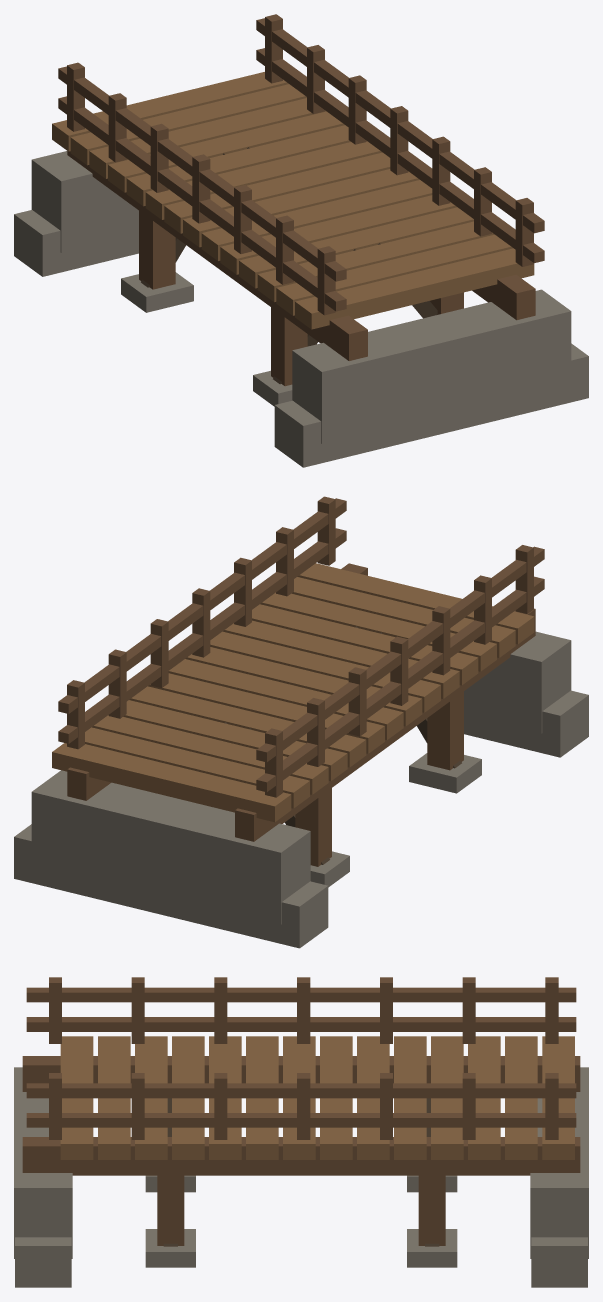
Rendered from wooden-bridge.source.glb.
3 renders of one model, top to bottom at view 1: azimuth 30°, elevation 25°; view 2: azimuth 150°, elevation 25°; view 3: azimuth 270°, elevation 25°, orthographic.
Parts seen in each view (by area): view 1: wooden-bridge-front-abutment-shoulder-mesh, wooden-bridge-front-abutment-base-mesh, wooden-bridge-rear-abutment-shoulder-mesh, wooden-bridge-road-plank-2.0600000000000005-mesh, wooden-bridge-left-rail-1.78-mesh, wooden-bridge-left-rail-1.48-mesh, wooden-bridge-right-rail-1.48-mesh, wooden-bridge-right-rail-1.78-mesh, wooden-bridge-post-left-mesh (×2), wooden-bridge-rear-abutment-base-mesh, wooden-bridge-road-plank-1.7200000000000006-mesh, wooden-bridge-long-beam--0.88-mesh (+28 smaller); view 2: wooden-bridge-rear-abutment-shoulder-mesh, wooden-bridge-rear-abutment-base-mesh, wooden-bridge-road-plank--2.36-mesh, wooden-bridge-front-abutment-shoulder-mesh, wooden-bridge-right-rail-1.78-mesh, wooden-bridge-right-rail-1.48-mesh, wooden-bridge-left-rail-1.78-mesh, wooden-bridge-left-rail-1.48-mesh, wooden-bridge-post-left-mesh (×2), wooden-bridge-front-abutment-base-mesh, wooden-bridge-road-plank--2.02-mesh, wooden-bridge-road-plank--1.68-mesh (+28 smaller); view 3: wooden-bridge-long-beam-0.88-mesh, wooden-bridge-right-rail-1.78-mesh, wooden-bridge-left-rail-1.78-mesh, wooden-bridge-left-rail-1.48-mesh, wooden-bridge-right-rail-1.48-mesh, wooden-bridge-front-abutment-shoulder-mesh, wooden-bridge-rear-abutment-shoulder-mesh, wooden-bridge-post-right-mesh (×2), wooden-bridge-road-plank--2.02-mesh, wooden-bridge-road-plank--0.9999999999999998-mesh, wooden-bridge-road-plank--0.3199999999999997-mesh, wooden-bridge-road-plank-0.3600000000000004-mesh (+29 smaller).
Part boxes in pixels (<box>): wooden-bridge-front-abutment-shoulder-mesh: <box>292,289,571,443</box>; wooden-bridge-front-abutment-base-mesh: <box>274,343,588,467</box>; wooden-bridge-rear-abutment-shoulder-mesh: <box>31,151,138,252</box>; wooden-bridge-road-plank-2.0600000000000005-mesh: <box>295,248,534,329</box>; wooden-bridge-left-rail-1.78-mesh: <box>58,66,346,281</box>; wooden-bridge-left-rail-1.48-mesh: <box>58,96,346,311</box>; wooden-bridge-right-rail-1.48-mesh: <box>256,48,544,263</box>; wooden-bridge-right-rail-1.78-mesh: <box>256,18,544,233</box>; wooden-bridge-post-left-mesh (×2): <box>139,211,307,386</box>; wooden-bridge-rear-abutment-base-mesh: <box>14,210,138,276</box>; wooden-bridge-road-plank-1.7200000000000006-mesh: <box>276,234,512,315</box>; wooden-bridge-long-beam--0.88-mesh: <box>67,151,367,360</box>; wooden-bridge-rear-abutment-shoulder-mesh: <box>31,770,310,924</box>; wooden-bridge-rear-abutment-base-mesh: <box>14,824,328,948</box>; wooden-bridge-road-plank--2.36-mesh: <box>52,743,291,822</box>; wooden-bridge-front-abutment-shoulder-mesh: <box>464,631,571,733</box>; wooden-bridge-right-rail-1.78-mesh: <box>58,498,346,713</box>; wooden-bridge-right-rail-1.48-mesh: <box>58,528,346,743</box>; wooden-bridge-left-rail-1.78-mesh: <box>256,546,544,762</box>; wooden-bridge-left-rail-1.48-mesh: <box>256,576,544,792</box>; wooden-bridge-post-left-mesh (×2): <box>295,691,463,866</box>; wooden-bridge-front-abutment-base-mesh: <box>464,690,588,757</box>; wooden-bridge-road-plank--2.02-mesh: <box>85,727,309,808</box>; wooden-bridge-road-plank--1.68-mesh: <box>92,715,328,794</box>; wooden-bridge-long-beam-0.88-mesh: <box>22,1137,580,1175</box>; wooden-bridge-right-rail-1.78-mesh: <box>26,1083,576,1098</box>; wooden-bridge-left-rail-1.78-mesh: <box>26,987,576,1002</box>; wooden-bridge-left-rail-1.48-mesh: <box>26,1017,576,1031</box>; wooden-bridge-right-rail-1.48-mesh: <box>26,1113,576,1127</box>; wooden-bridge-front-abutment-shoulder-mesh: <box>14,1067,72,1258</box>; wooden-bridge-rear-abutment-shoulder-mesh: <box>530,1067,588,1258</box>; wooden-bridge-post-right-mesh (×2): <box>157,1175,445,1245</box>; wooden-bridge-road-plank--2.02-mesh: <box>505,1036,537,1159</box>; wooden-bridge-road-plank--0.9999999999999998-mesh: <box>394,1036,426,1159</box>; wooden-bridge-road-plank--0.3199999999999997-mesh: <box>320,1036,352,1159</box>; wooden-bridge-road-plank-0.3600000000000004-mesh: <box>246,1036,278,1159</box>.
Size of the model in its own units: 3 by 1.93 by 5.28.
